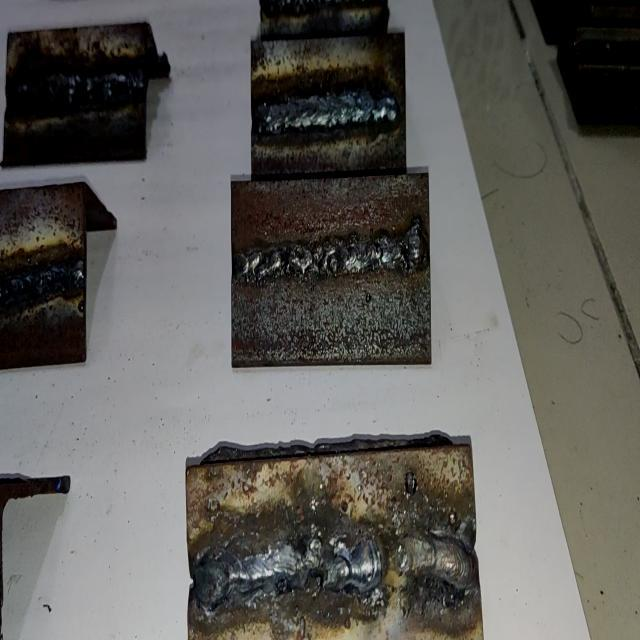Defect: (364, 512, 430, 610), (277, 532, 348, 608)
Welding Line: (192, 532, 472, 602), (238, 226, 430, 282), (8, 65, 146, 116), (256, 92, 402, 134), (4, 260, 84, 304)
Workpiece: (185, 437, 478, 640), (228, 166, 434, 368), (250, 36, 408, 188), (3, 23, 149, 168), (0, 180, 89, 370)
